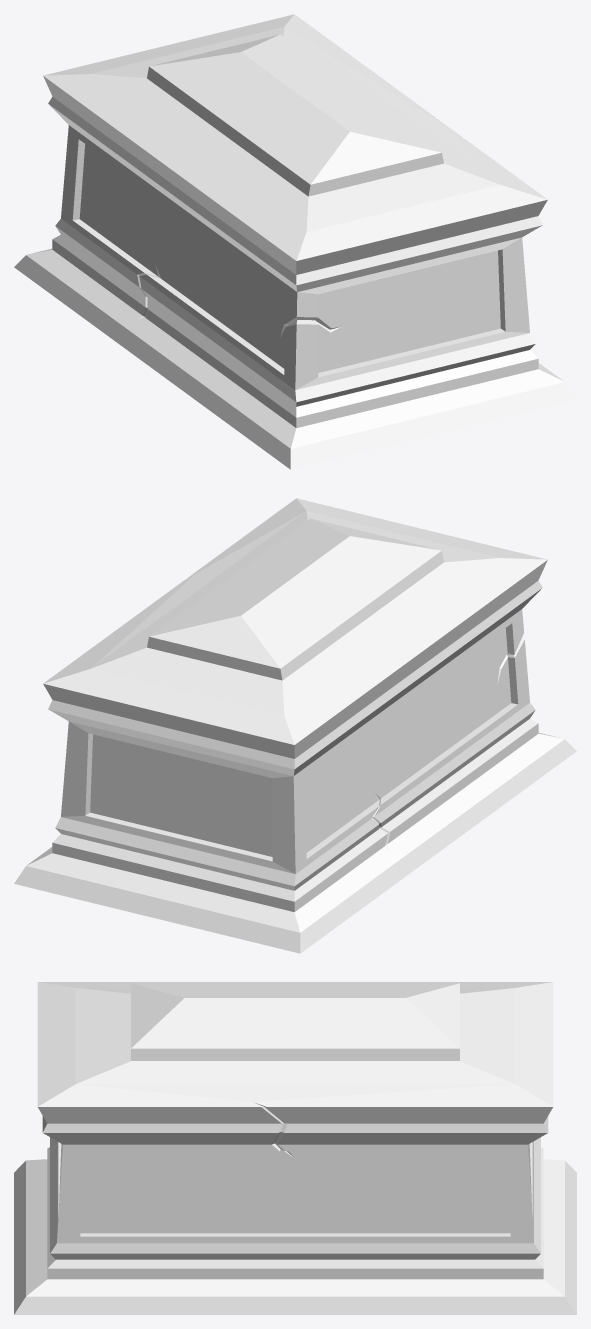
The model's file is coffin_1.fbx.
3 renders of one model, top to bottom at view 1: azimuth 30°, elevation 25°; view 2: azimuth 150°, elevation 25°; view 3: azimuth 270°, elevation 25°, orthographic.
Parts seen in each view (by area): view 1: Sarcophagus_A.001; view 2: Sarcophagus_A.001; view 3: Sarcophagus_A.001.
Boxes of the visible parts, x1,y1,x2,y2 form: Sarcophagus_A.001: (14,14,576,469); Sarcophagus_A.001: (14,498,576,953); Sarcophagus_A.001: (14,982,576,1314).
Bounding box in the file's own units: 15.04 × 12.13 × 25.15.
